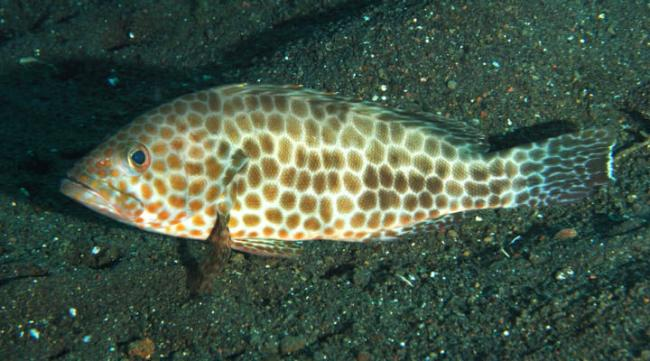fish: (60, 83, 619, 297)
